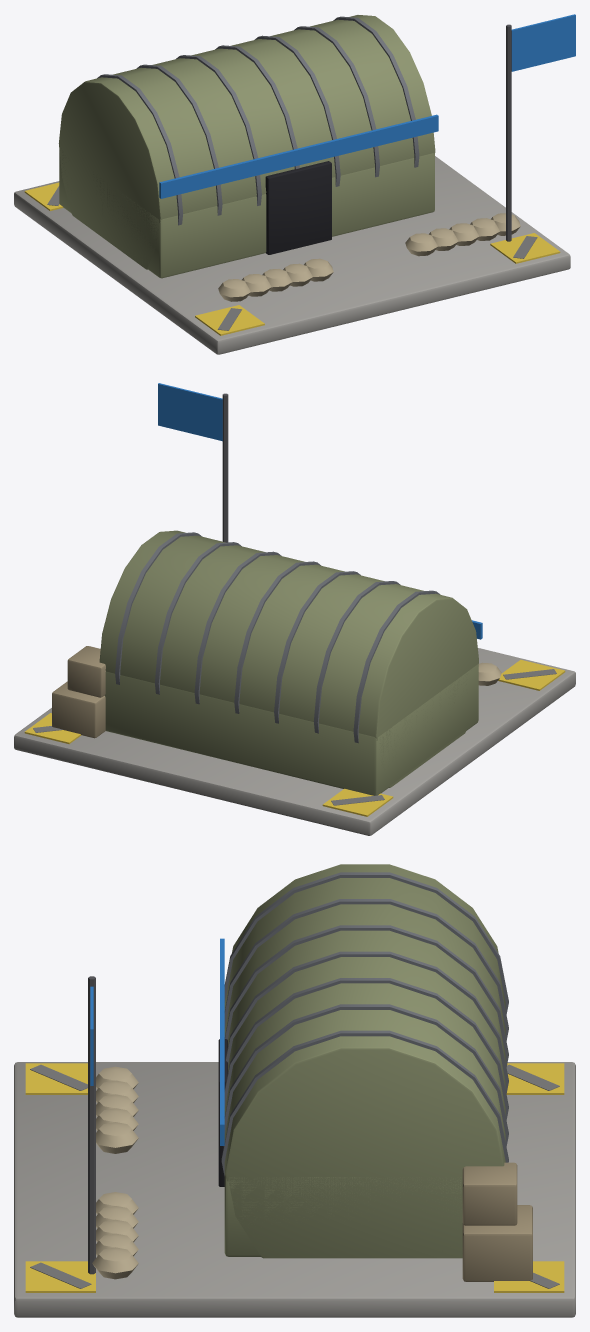
File: bld_barracks.glb
3 views of the same model, one above another, from view 1: azimuth 30°, elevation 25°; view 2: azimuth 150°, elevation 25°; view 3: azimuth 270°, elevation 25° (orthographic). The views are drawn at different scales.
Visible parts, largest first — view 1: shell, foundation, structure, fittings; view 2: shell, foundation, structure, fittings; view 3: shell, foundation, fittings, structure.
Boxes of the visible parts, x1=… form: shell: x1=58, y1=15, x2=438, y2=269; foundation: x1=14, y1=156, x2=570, y2=354; structure: x1=59, y1=150, x2=434, y2=278; fittings: x1=218, y1=14, x2=575, y2=301; shell: x1=99, y1=530, x2=482, y2=787; foundation: x1=14, y1=648, x2=575, y2=835; structure: x1=104, y1=664, x2=478, y2=795; fittings: x1=52, y1=383, x2=501, y2=738; shell: x1=218, y1=864, x2=508, y2=1258; foundation: x1=14, y1=1062, x2=575, y2=1317; fittings: x1=88, y1=976, x2=532, y2=1281; structure: x1=224, y1=1173, x2=462, y2=1256.
Size of the model in its own units: 7.85 by 4.81 by 7.2.
